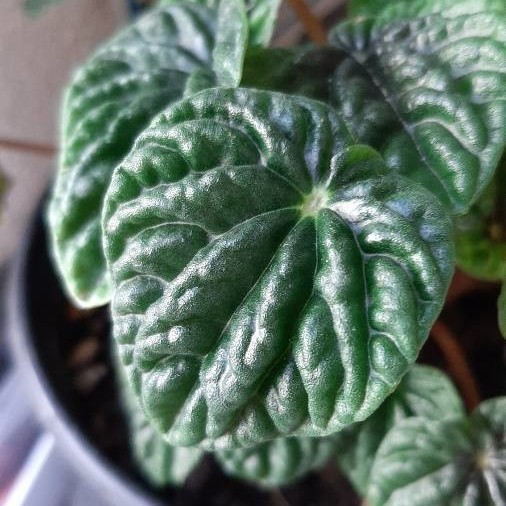obstacle: (35, 8, 456, 498)
